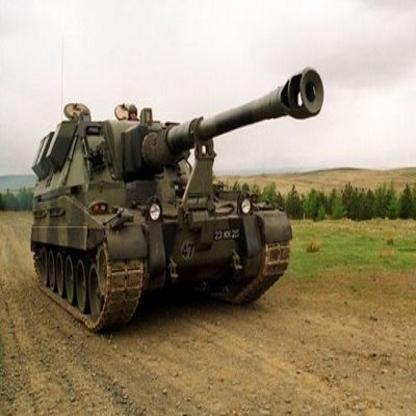Tank: (27, 66, 325, 336)
